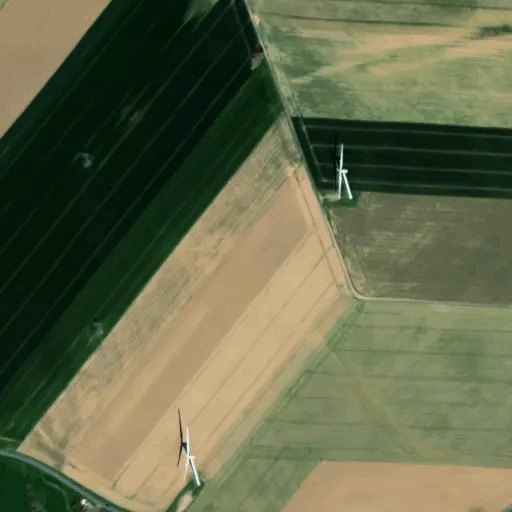wt: (173, 405, 204, 491), (328, 123, 358, 205)
